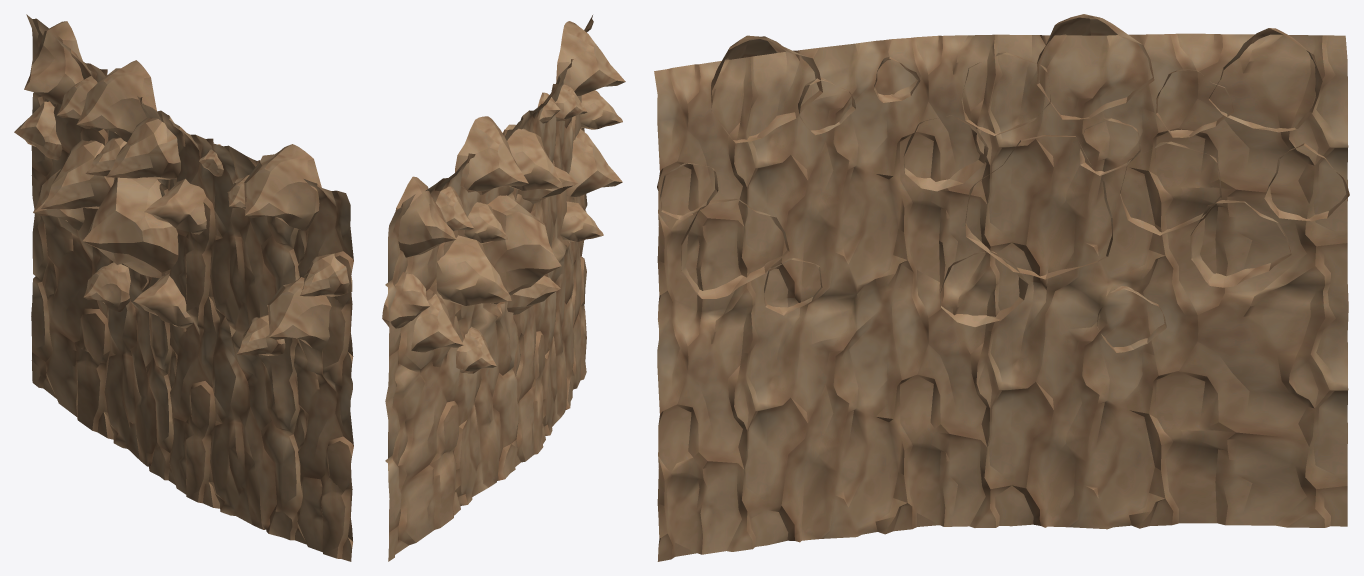
The model's file is SM_ENV_KNFRST_MassiveRuinGroundb.FBX.
3 renders of one model, left to right at view 1: azimuth 30°, elevation 25°; view 2: azimuth 150°, elevation 25°; view 3: azimuth 270°, elevation 25°, orthographic. The views are drawn at different scales.
Parts seen in each view (by area): view 1: SM_ENV_KNFRST_MassiveRuinGroundb; view 2: SM_ENV_KNFRST_MassiveRuinGroundb; view 3: SM_ENV_KNFRST_MassiveRuinGroundb.
Part boxes in pixels (box(x1,y1,x2,y2)): SM_ENV_KNFRST_MassiveRuinGroundb: box(14, 14, 353, 561); SM_ENV_KNFRST_MassiveRuinGroundb: box(382, 15, 625, 561); SM_ENV_KNFRST_MassiveRuinGroundb: box(654, 14, 1349, 561).
Size of the model in its own units: 1150 by 3440 by 4216.
